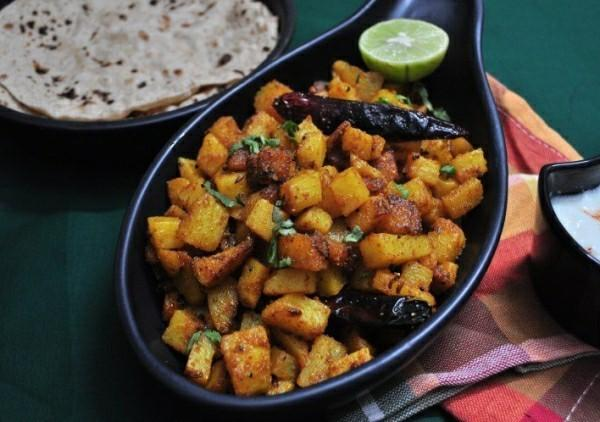AlooMasala: (148, 61, 487, 396)
